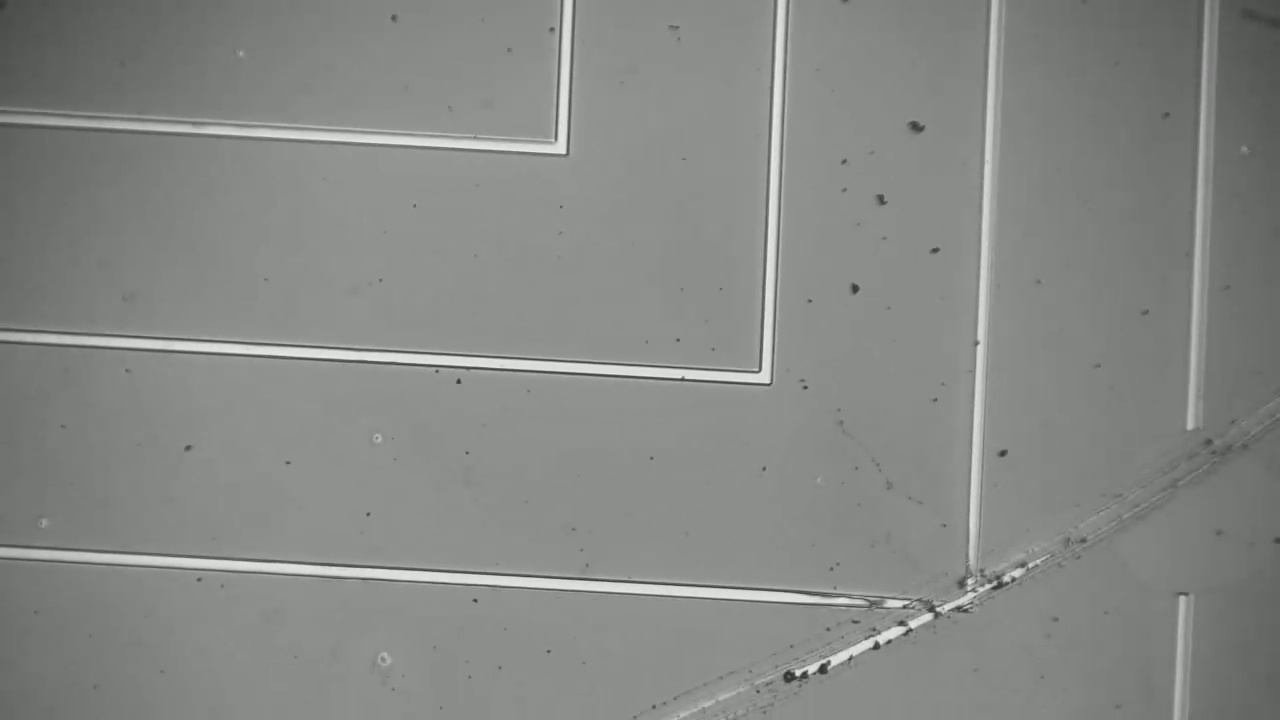open: (1144, 387, 1227, 632)
scratch: (639, 419, 1266, 720)
